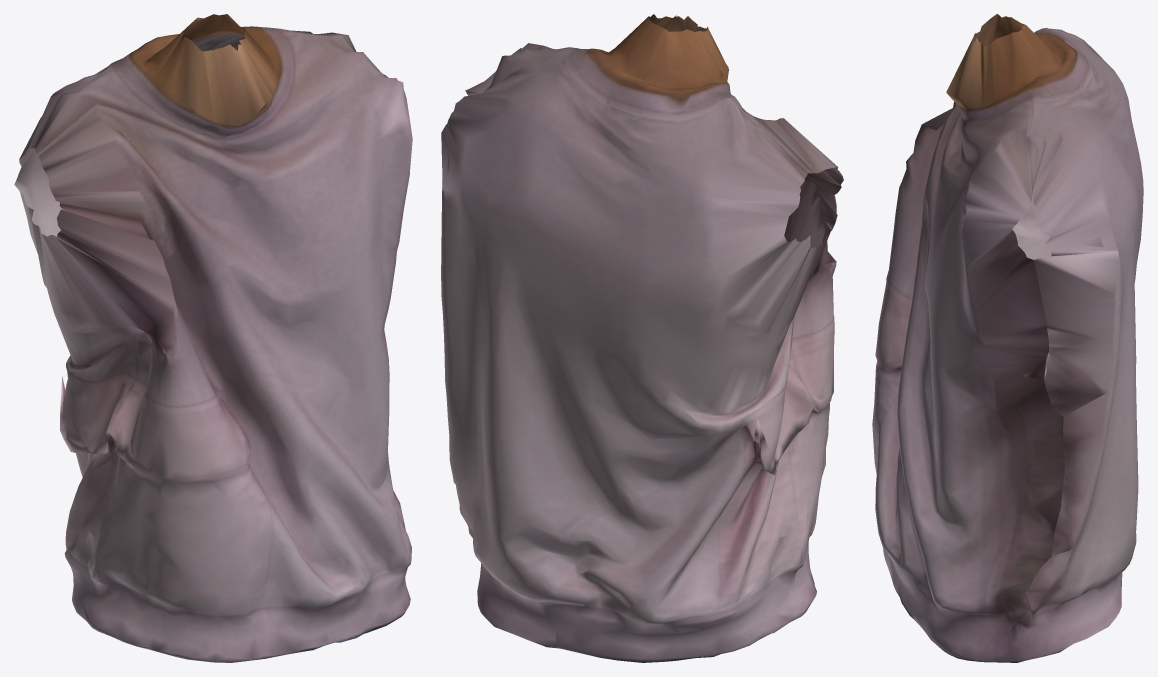
Rendered from torso.obj.
3 views of the same model, side by side, from view 1: azimuth 30°, elevation 25°; view 2: azimuth 150°, elevation 25°; view 3: azimuth 270°, elevation 25° (orthographic). The views are drawn at different scales.
Parts seen in each view (by area): view 1: Ivan_1304_VRY; view 2: Ivan_1304_VRY; view 3: Ivan_1304_VRY.
Boxes of the visible parts, x1=… form: Ivan_1304_VRY: x1=14, y1=14, x2=412, y2=662; Ivan_1304_VRY: x1=441, y1=14, x2=843, y2=662; Ivan_1304_VRY: x1=872, y1=14, x2=1143, y2=662.
Size of the model in its own units: 5.18 by 8.02 by 3.52.
Materials: 1 (1 with a texture image).
